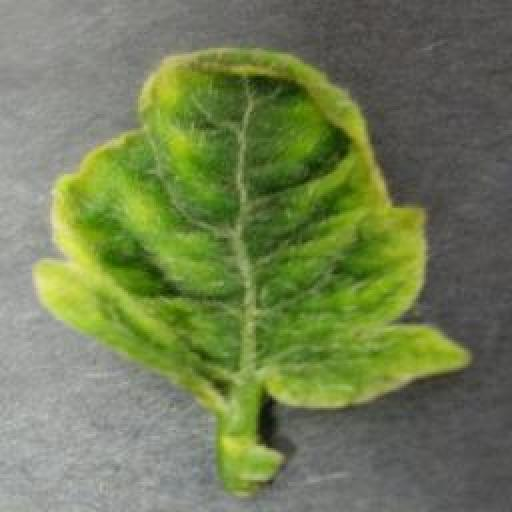disease_tomato: (30, 44, 474, 411)
